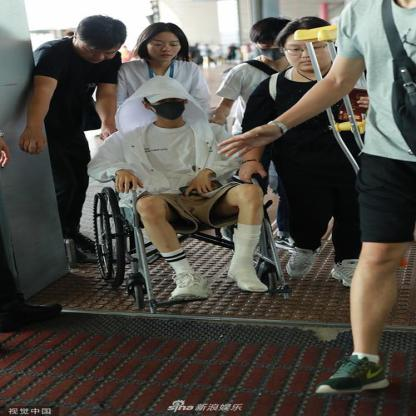wheelchair: (92, 74, 289, 308)
